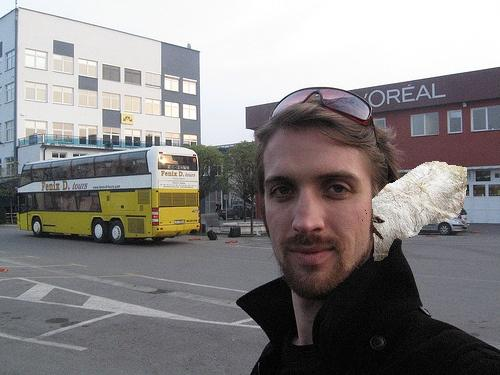tampered: (359, 162, 467, 261)
